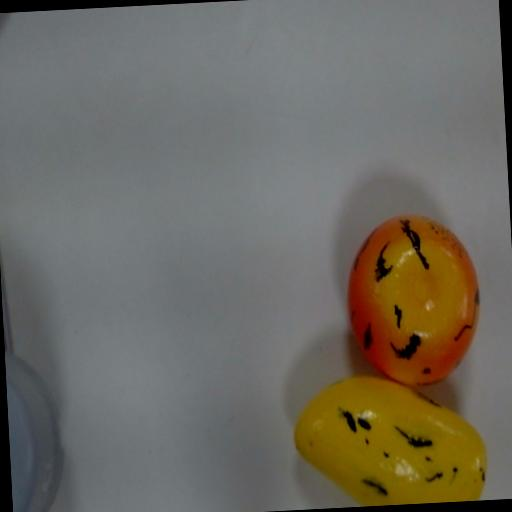Defective: (286, 370, 489, 504), (340, 209, 485, 388)
